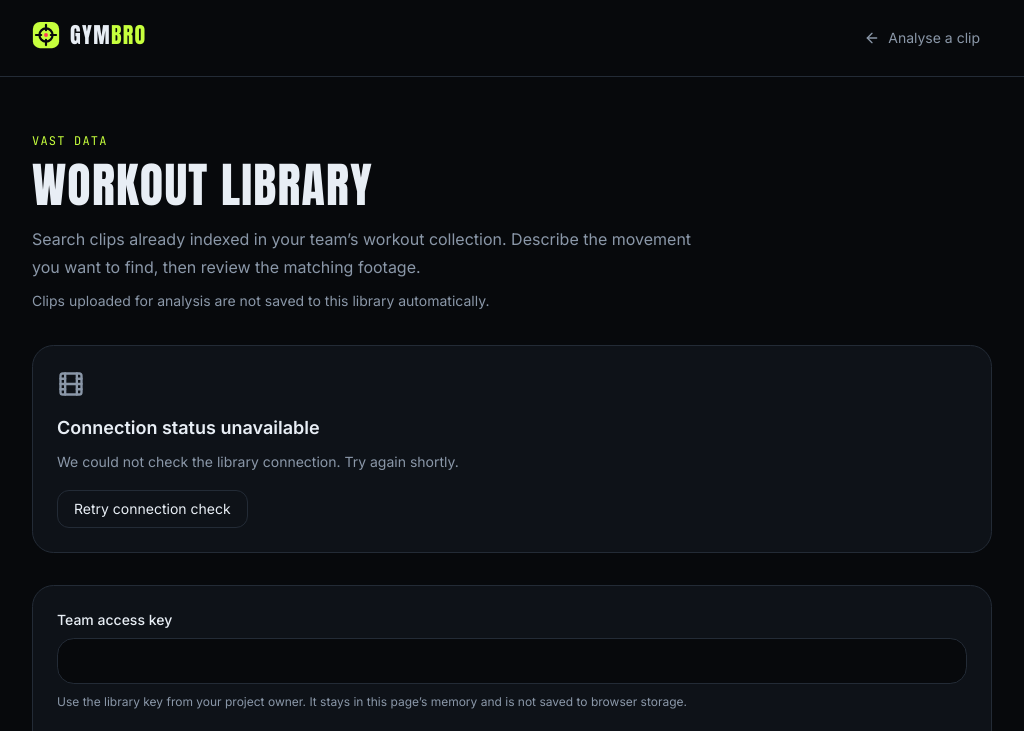
Test: indexed workout library › shows a retry when status cannot be read
Click the button "Retry connection check": (152, 509) x1=57 y1=490 x2=248 y2=528
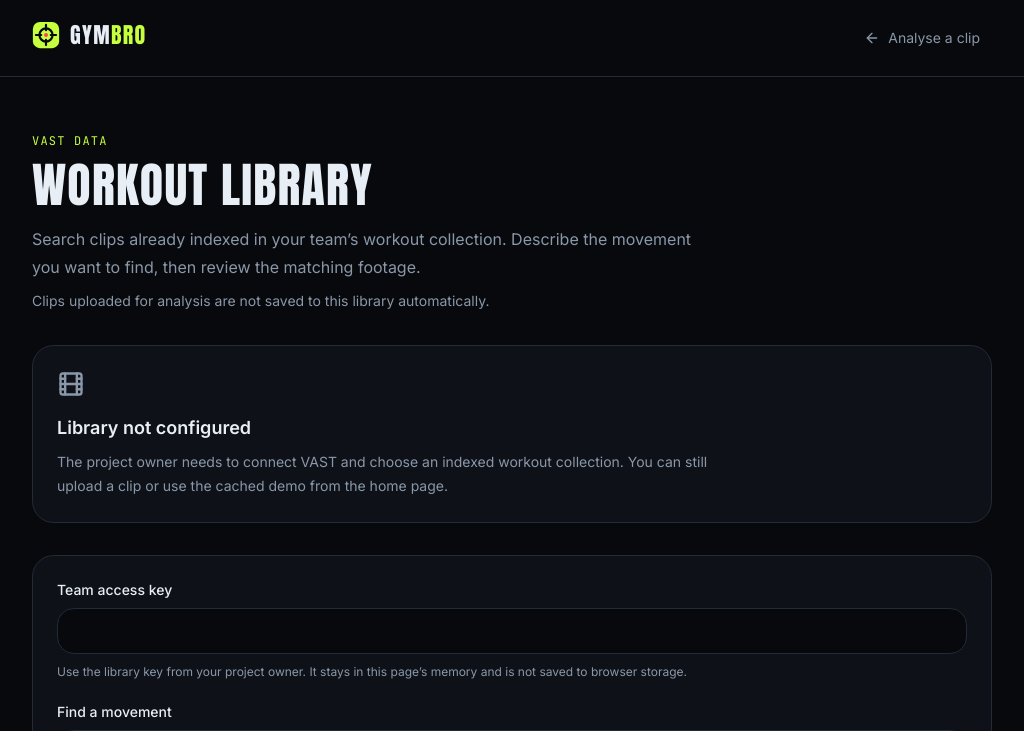
Check: the heading "Library not configured" is shown, box x1=57 y1=417 x2=251 y2=438
